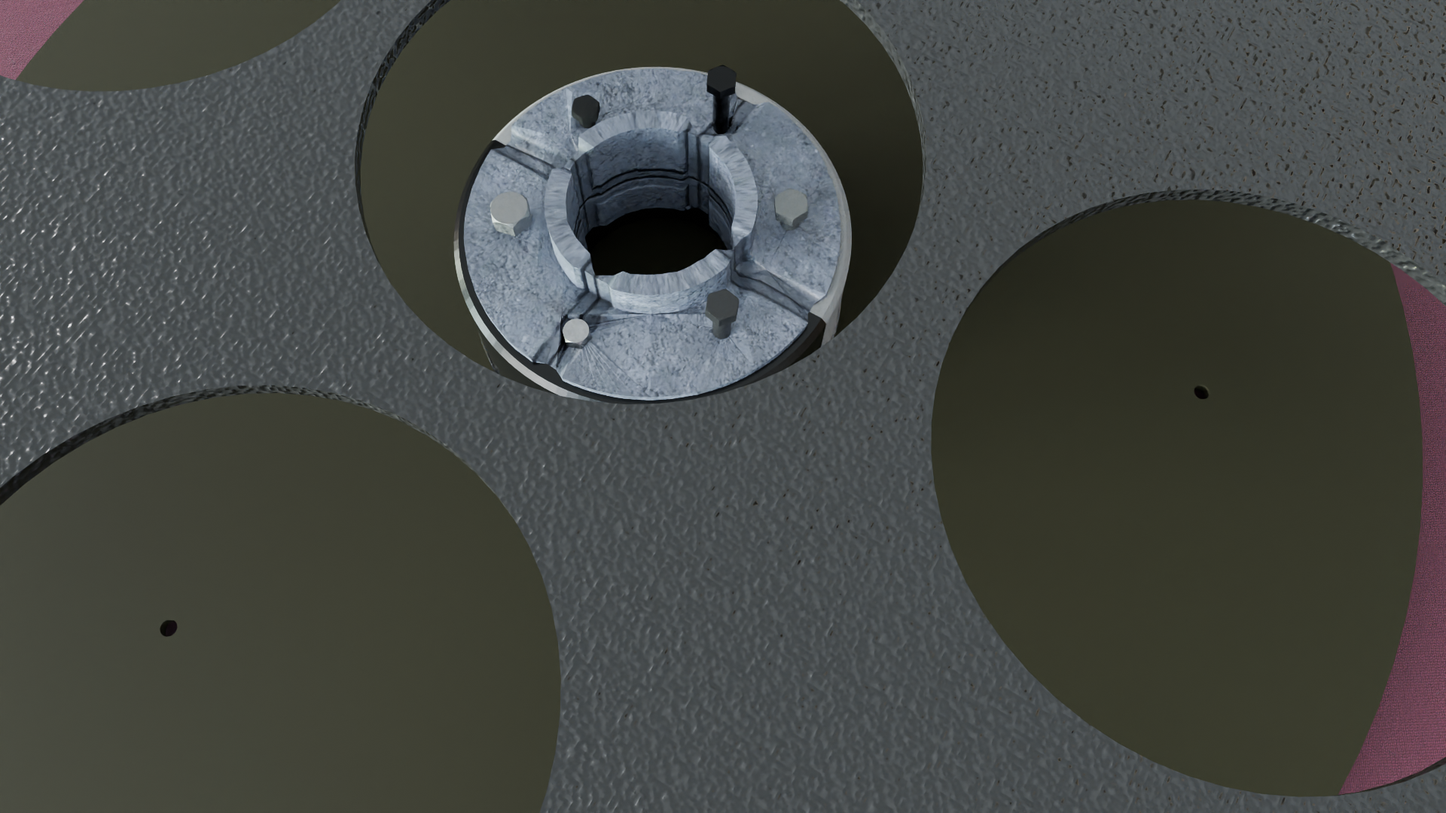bolt: (490, 192, 529, 228), (705, 289, 740, 321), (774, 188, 808, 220), (706, 65, 737, 93), (562, 318, 591, 346), (572, 95, 599, 119)
